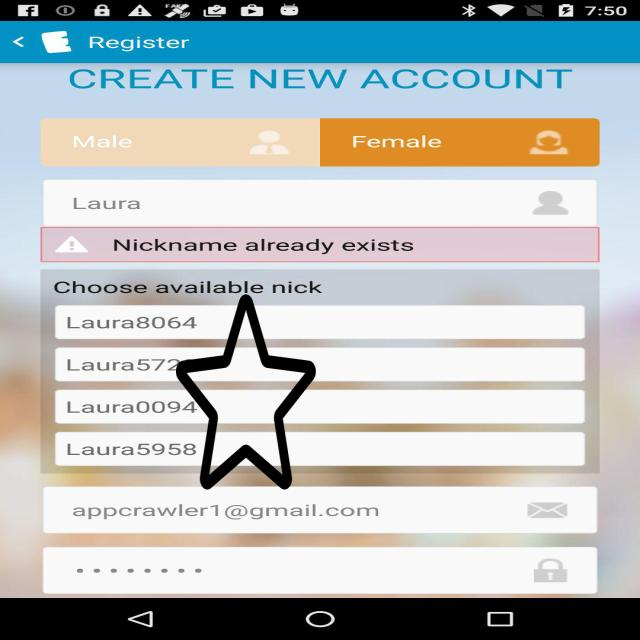forced continuity: (176, 290, 316, 494)
